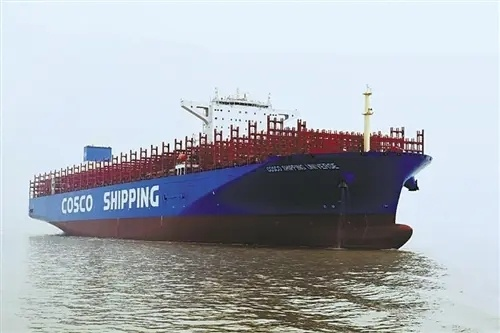Cargoship: (27, 86, 431, 246)
